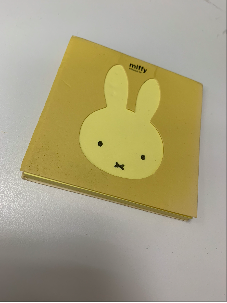object_name: (54, 51, 192, 200)
